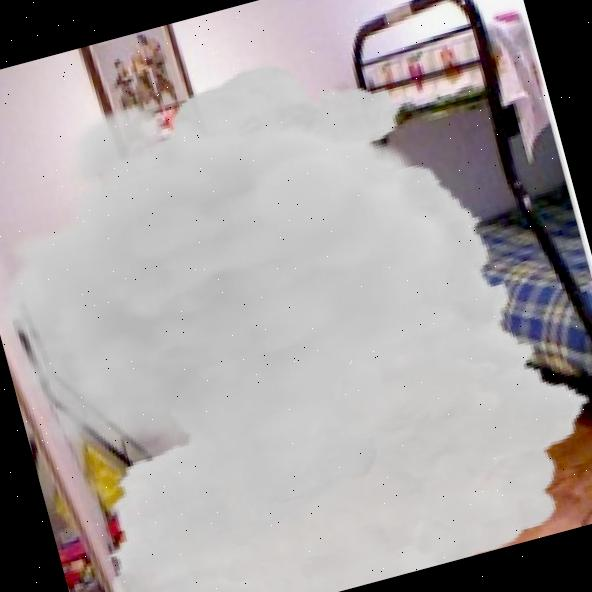smoke: (0, 4, 592, 592)
